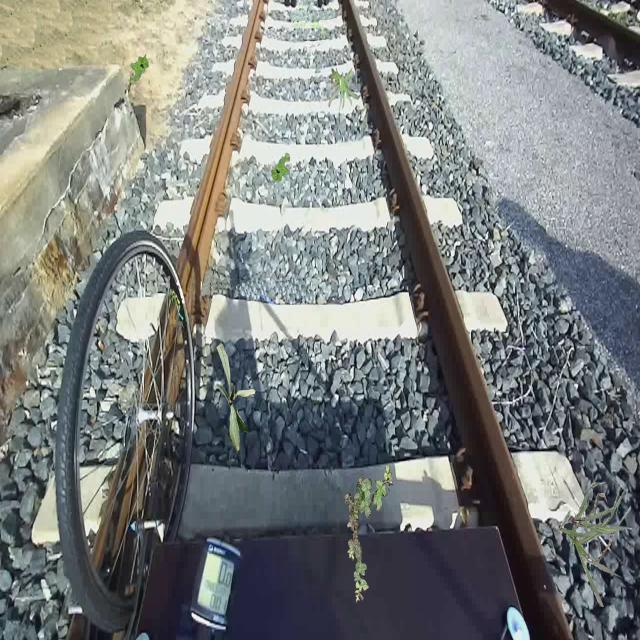Plant: (559, 482, 632, 606), (345, 465, 393, 603), (216, 343, 256, 453), (328, 67, 360, 113), (130, 53, 150, 86), (271, 152, 290, 184)
